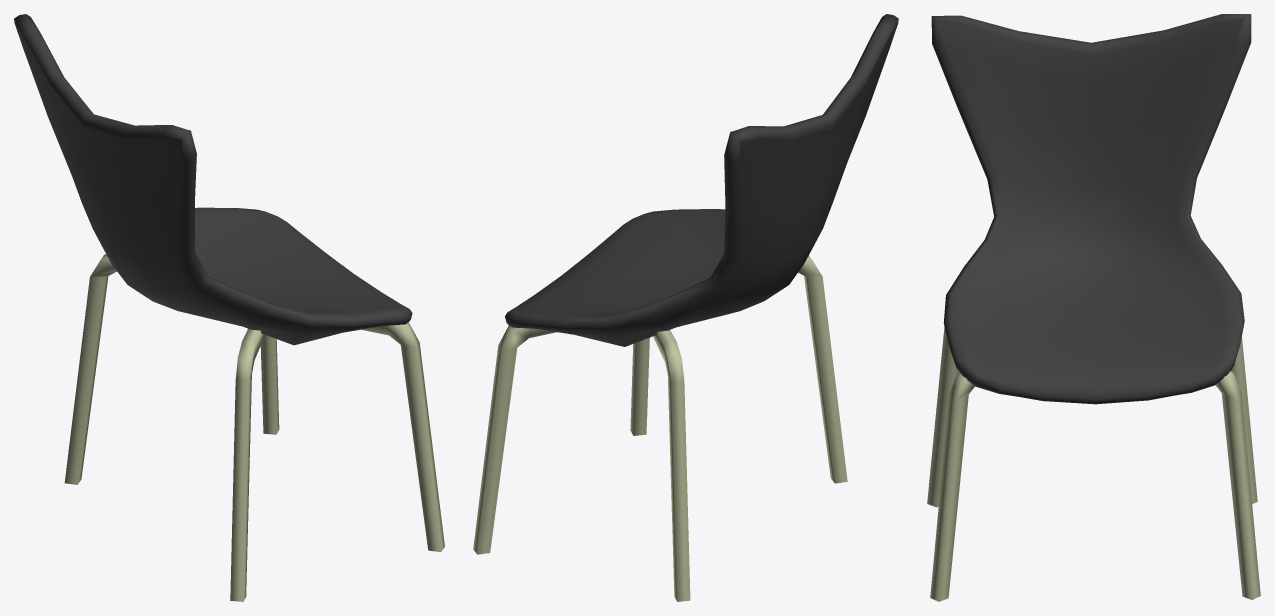
The model's file is Bedroom3_chair.fbx.
3 renders of one model, left to right at view 1: azimuth 30°, elevation 25°; view 2: azimuth 150°, elevation 25°; view 3: azimuth 270°, elevation 25°, orthographic. The views are drawn at different scales.
Visible parts, largest first — view 1: Bedroom3_chair; view 2: Bedroom3_chair; view 3: Bedroom3_chair.
Part boxes in pixels (x1=…): Bedroom3_chair: x1=14, y1=14, x2=444, y2=601; Bedroom3_chair: x1=473, y1=14, x2=898, y2=601; Bedroom3_chair: x1=927, y1=14, x2=1260, y2=601.
Bounding box in the file's own units: 104 × 169 × 110.
